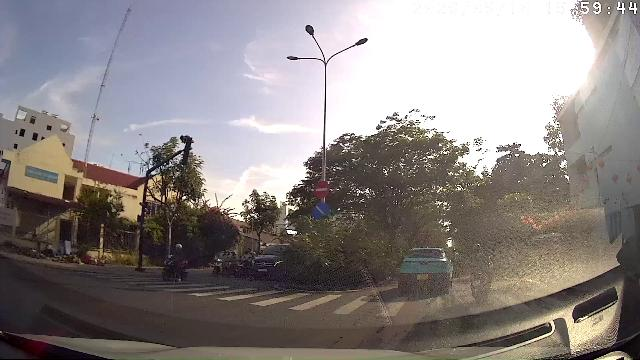102-cam-di-nguoc-chieu: (312, 180, 330, 198)
302a-huong-phai-di-vong-chuong-ngai-vat-1: (312, 202, 330, 220)
